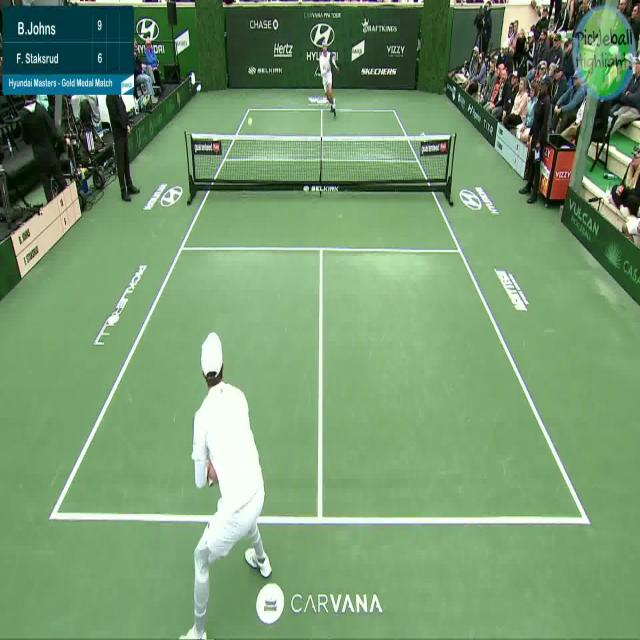ball: (247, 115, 253, 127)
